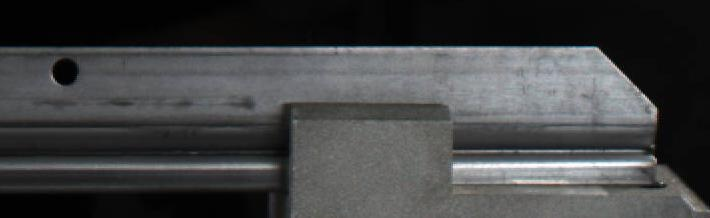cut: (471, 38, 668, 188)
holes: (50, 56, 80, 84)
